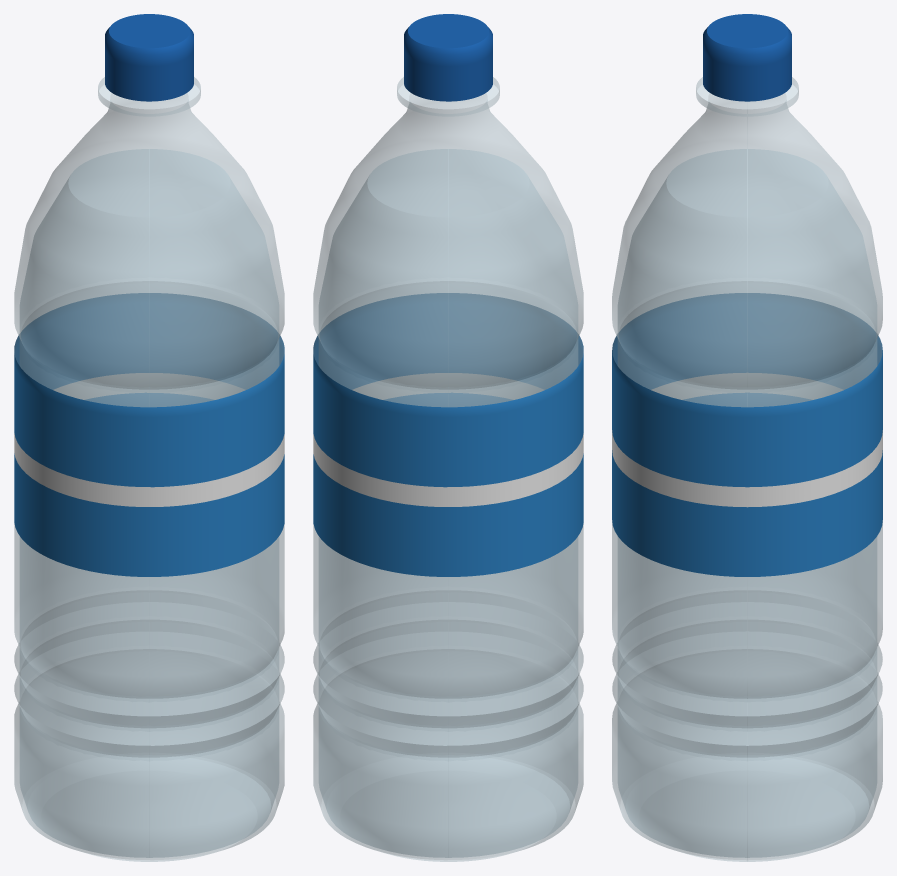
The model's file is item-water-2l.glb.
3 renders of one model, left to right at view 1: azimuth 30°, elevation 25°; view 2: azimuth 150°, elevation 25°; view 3: azimuth 270°, elevation 25°, orthographic.
Visible parts, largest first — view 1: item-water-2l; view 2: item-water-2l; view 3: item-water-2l.
Boxes of the visible parts, bbox=[...] form: item-water-2l: bbox=[14, 14, 284, 861]; item-water-2l: bbox=[313, 14, 583, 861]; item-water-2l: bbox=[612, 14, 882, 861].
Bounding box in the file's own units: 0.1 × 0.32 × 0.1.
